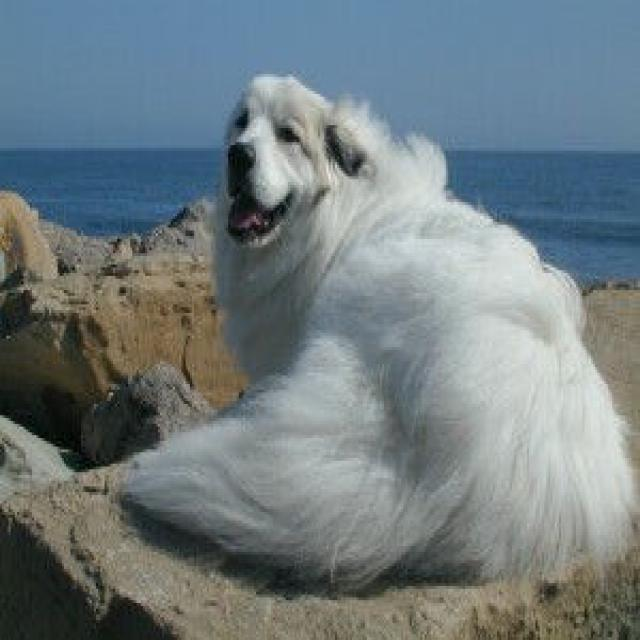dog-great_pyrenees: (124, 57, 636, 580)
